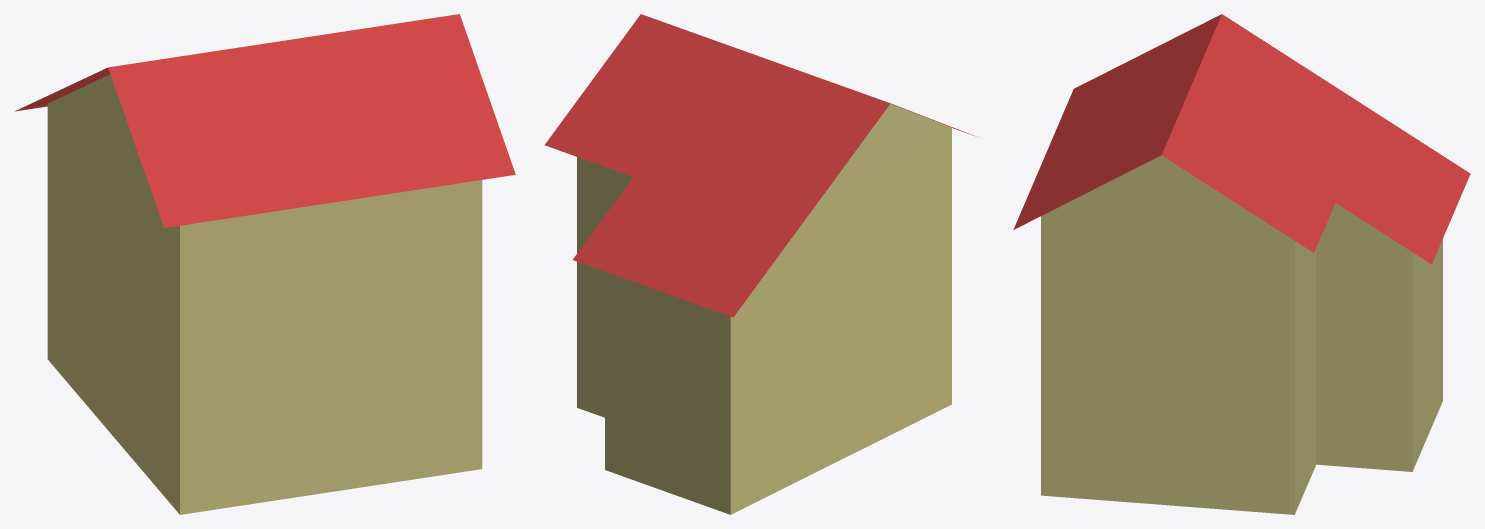
3 views of the same model, side by side, from view 1: azimuth 30°, elevation 25°; view 2: azimuth 150°, elevation 25°; view 3: azimuth 270°, elevation 25° (orthographic). The views are drawn at different scales.
Bounding box in the file's own units: 12.2 × 14.36 × 12.47.
